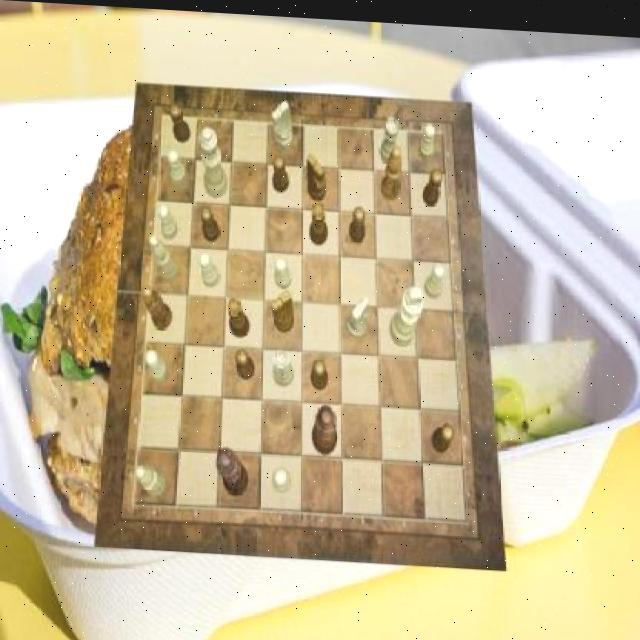bishop: (143, 284, 173, 329), (382, 141, 402, 196)
black-bishop: (217, 444, 249, 493)
black-king: (271, 286, 294, 330), (308, 150, 328, 197)
black-knight: (170, 102, 192, 141), (432, 417, 456, 449), (423, 163, 443, 201), (272, 151, 290, 190), (200, 205, 220, 240), (236, 346, 256, 378), (349, 202, 366, 239), (311, 356, 328, 388)
black-pawn: (312, 401, 337, 453)
black-queen: (228, 295, 250, 336), (310, 197, 328, 242)
black-rook: (149, 233, 180, 280), (135, 463, 168, 497)
white-bishop: (390, 280, 424, 343)
white-king: (272, 97, 295, 147), (346, 291, 369, 335)
white-knight: (198, 249, 220, 285), (146, 347, 169, 380), (158, 201, 178, 238), (168, 147, 187, 185), (426, 259, 446, 294), (419, 118, 436, 157), (272, 463, 292, 490), (276, 253, 292, 286)
white-pawn: (198, 125, 228, 197)
white-queen: (380, 112, 400, 159), (274, 345, 294, 383)
